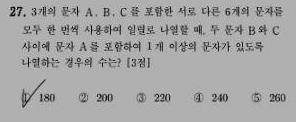choice: (18, 87, 34, 109)
not-choice: (249, 91, 262, 103), (77, 91, 89, 103), (135, 91, 147, 103), (192, 91, 204, 103)
